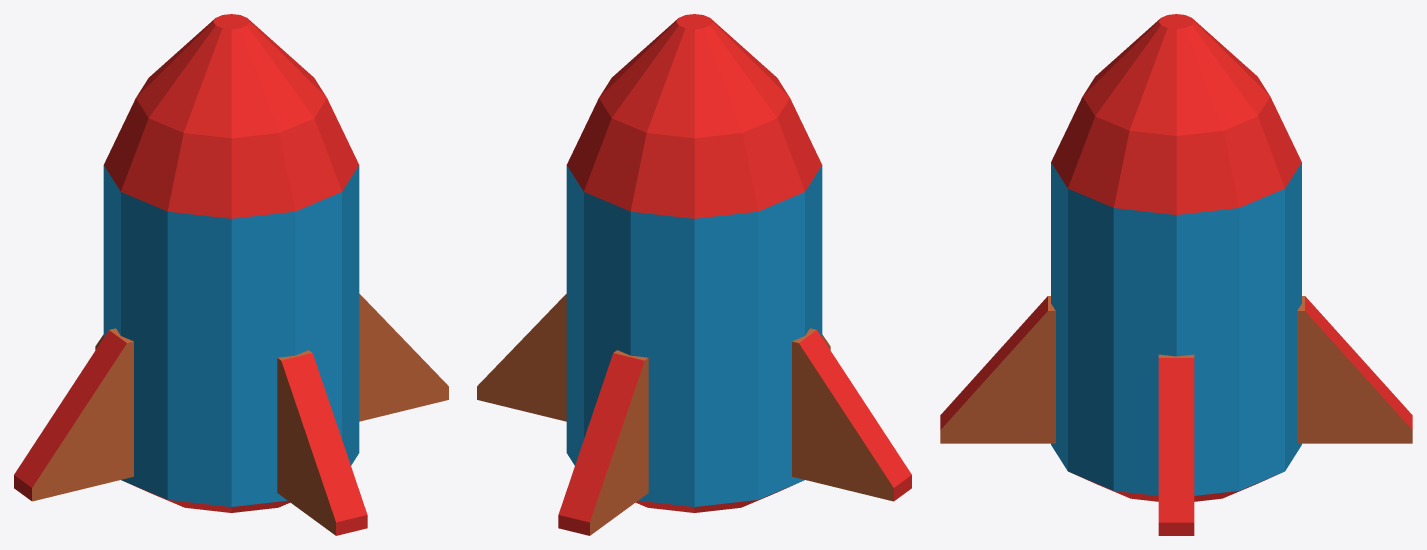
Rendered from Rocket.fbx.
3 renders of one model, left to right at view 1: azimuth 30°, elevation 25°; view 2: azimuth 150°, elevation 25°; view 3: azimuth 270°, elevation 25°, orthographic.
Parts seen in each view (by area): view 1: Cylinder; view 2: Cylinder; view 3: Cylinder.
Part boxes in pixels (x1,y1,x2,y2): Cylinder: [14, 14, 448, 535]; Cylinder: [477, 14, 911, 535]; Cylinder: [940, 14, 1412, 535].
Bounding box in the file's own units: 484 × 501 × 484.
